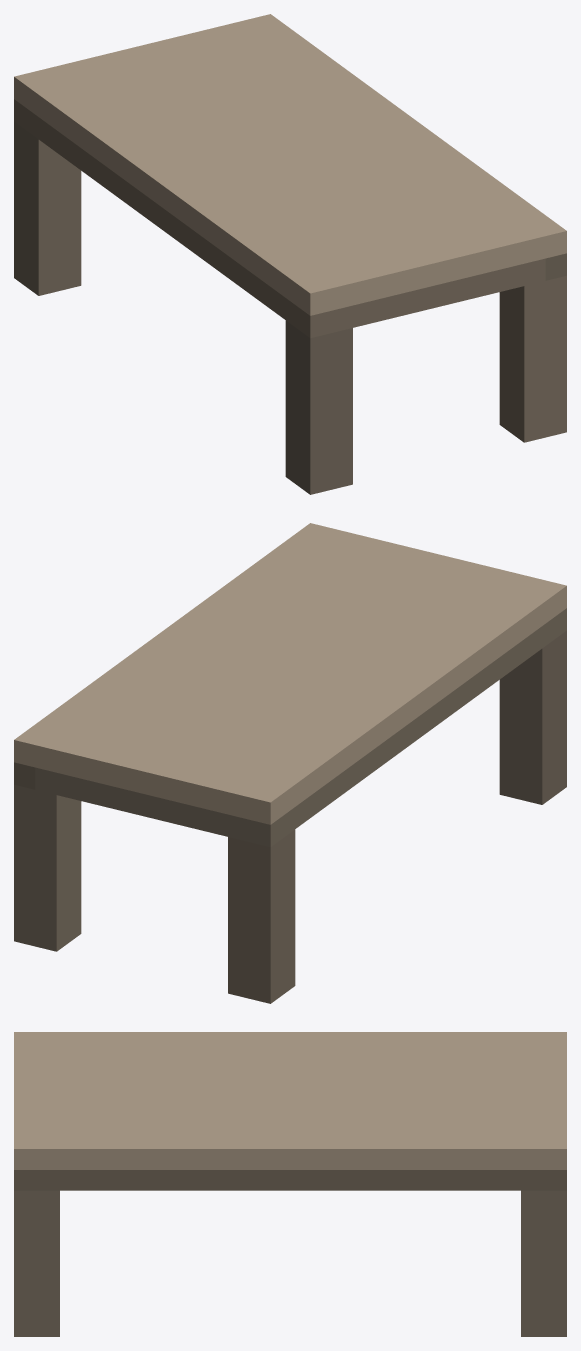
Rendered from mesa_trabajo_desgastada_01.glb.
The picture shows the model from 3 angles, top to bottom: view 1: azimuth 30°, elevation 25°; view 2: azimuth 150°, elevation 25°; view 3: azimuth 270°, elevation 25°; orthographic projection. The views are drawn at different scales.
Visible parts, largest first — view 1: mesa_trabajo_desgastada; view 2: mesa_trabajo_desgastada; view 3: mesa_trabajo_desgastada.
Part boxes in pixels (x1=…): mesa_trabajo_desgastada: x1=14, y1=14, x2=566, y2=494; mesa_trabajo_desgastada: x1=14, y1=523, x2=566, y2=1003; mesa_trabajo_desgastada: x1=14, y1=1032, x2=566, y2=1336.
Size of the model in its own units: 1 by 0.75 by 2.
